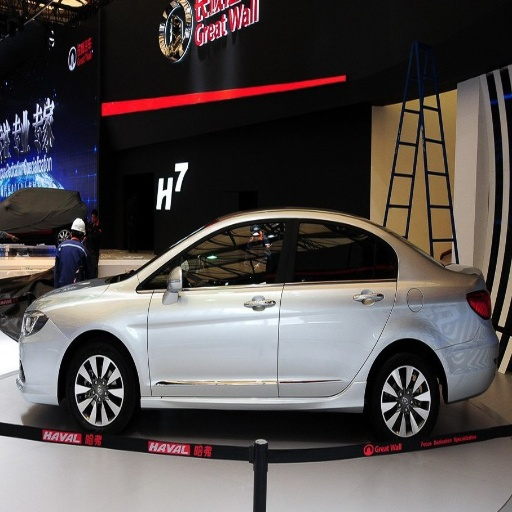back_left_door: (278, 216, 400, 400)
front_left_door: (151, 217, 290, 397)
